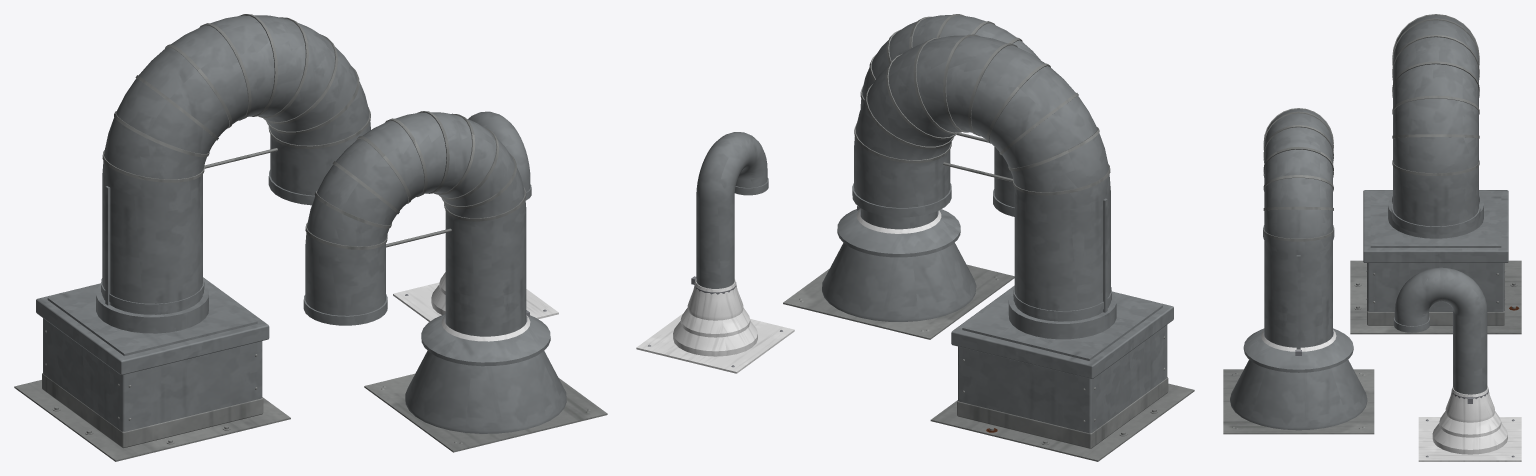
The model's file is gooseneck_vents.glb.
3 views of the same model, side by side, from view 1: azimuth 30°, elevation 25°; view 2: azimuth 150°, elevation 25°; view 3: azimuth 270°, elevation 25° (orthographic). The views are drawn at different scales.
Visible parts, largest first — view 1: part_neck_a_LOD0, part_neck_b_LOD0, part_curb_a_LOD0, part_flashing_b_LOD0, part_boot_j_LOD0, part_jpipe_LOD0; view 2: part_neck_a_LOD0, part_curb_a_LOD0, part_flashing_b_LOD0, part_boot_j_LOD0, part_jpipe_LOD0, part_neck_b_LOD0; view 3: part_neck_a_LOD0, part_neck_b_LOD0, part_curb_a_LOD0, part_flashing_b_LOD0, part_jpipe_LOD0, part_boot_j_LOD0.
Part boxes in pixels (x1,y1,x2,y2): part_neck_a_LOD0: (101,14,370,314); part_neck_b_LOD0: (303,111,526,336); part_curb_a_LOD0: (14,277,290,461); part_flashing_b_LOD0: (364,310,607,452); part_boot_j_LOD0: (393,272,558,321); part_jpipe_LOD0: (468,111,531,200); part_neck_a_LOD0: (852,34,1111,321); part_curb_a_LOD0: (930,285,1194,461); part_flashing_b_LOD0: (783,206,1014,339); part_boot_j_LOD0: (636,276,794,373); part_jpipe_LOD0: (696,132,768,288); part_neck_b_LOD0: (860,14,1043,229); part_neck_a_LOD0: (1391,14,1480,234); part_neck_b_LOD0: (1263,108,1334,349); part_curb_a_LOD0: (1350,190,1521,334); part_flashing_b_LOD0: (1223,328,1374,434); part_jpipe_LOD0: (1393,267,1487,394); part_boot_j_LOD0: (1418,385,1521,461).
Size of what is drawn, in the model's own units: 1.38 by 0.985 by 0.87.
6 materials, 6 textured.
